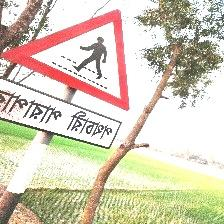Pedestrian-crossing: (0, 8, 131, 150)
